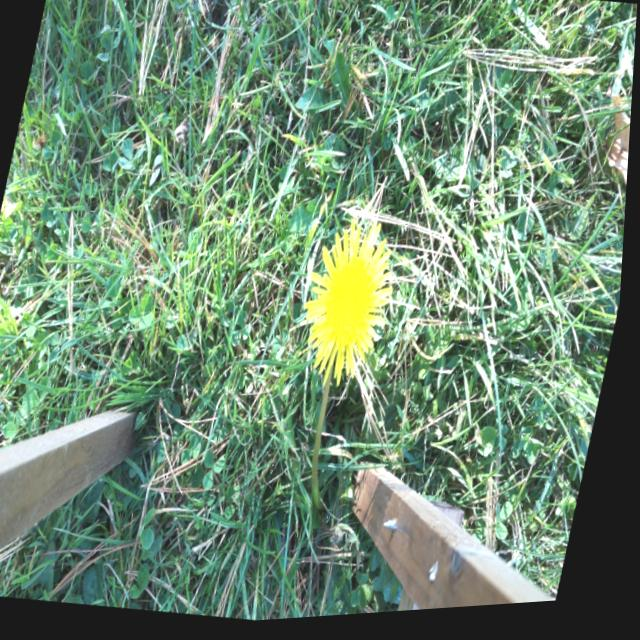base: (312, 491, 341, 534)
flower: (295, 216, 404, 387)
